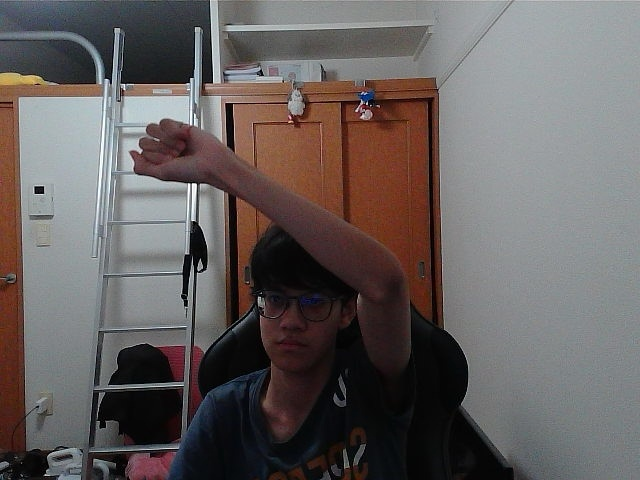closed_palm: (133, 123, 211, 173)
